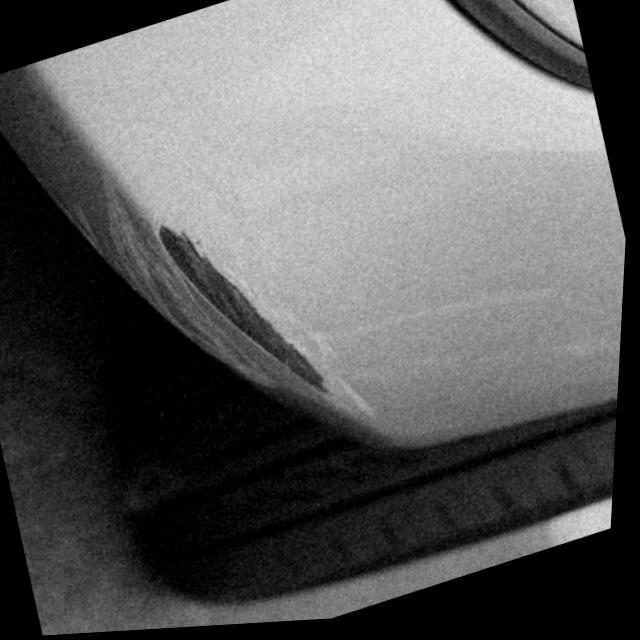Scratch: (41, 168, 389, 421)
